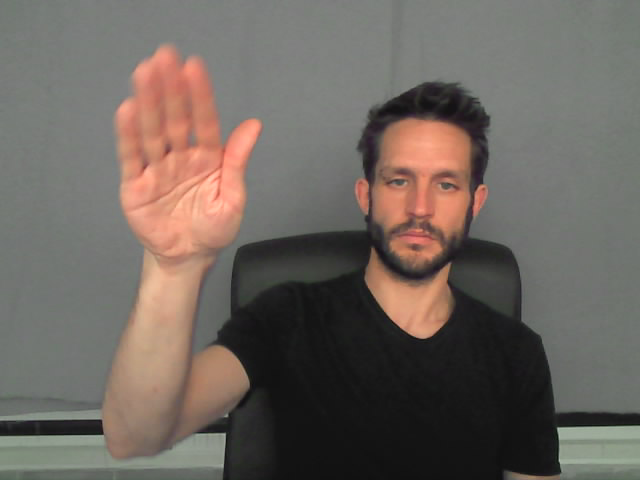stop: (115, 44, 263, 258)
